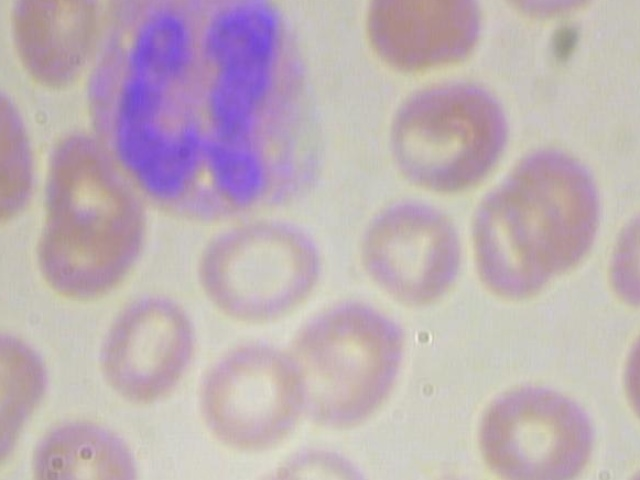RBC: (276, 294, 414, 434), (368, 75, 517, 198), (195, 215, 338, 324), (462, 384, 613, 480), (195, 333, 316, 452), (352, 191, 473, 310), (90, 288, 200, 411), (461, 181, 573, 301), (0, 0, 100, 89), (365, 0, 486, 72), (29, 413, 147, 480), (0, 82, 39, 238)
WBC: (82, 0, 346, 230)
